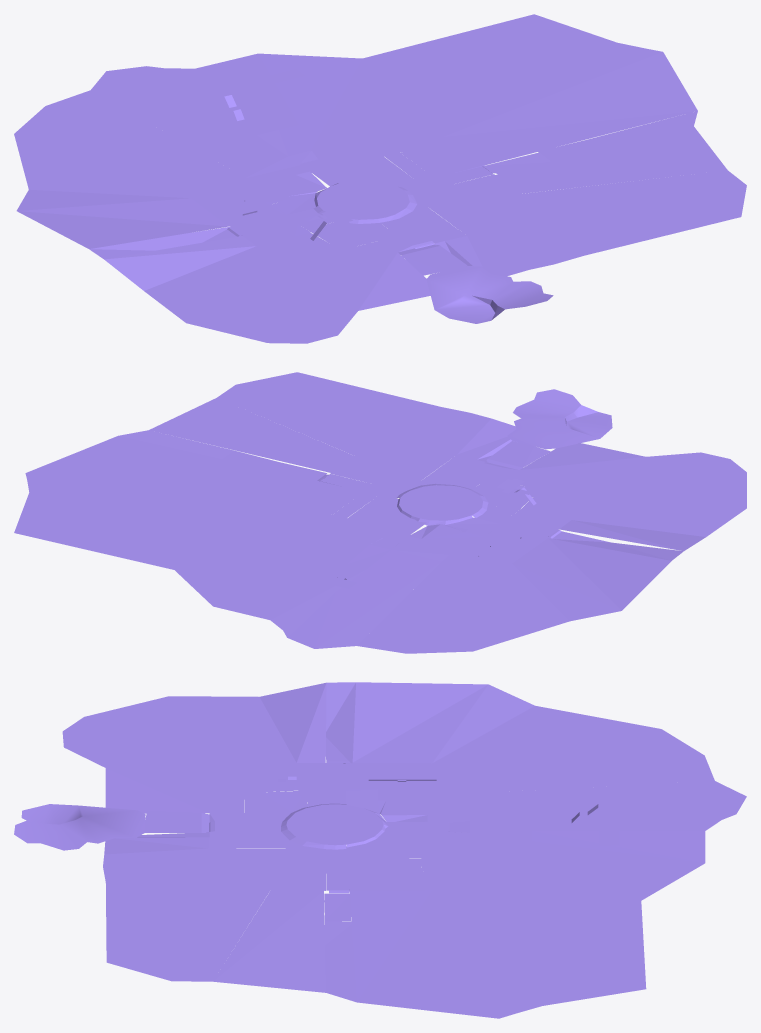
File: scene_luoliante_xinzouquyu_002.FBX
The picture shows the model from 3 angles, top to bottom: view 1: azimuth 30°, elevation 25°; view 2: azimuth 150°, elevation 25°; view 3: azimuth 270°, elevation 25°; orthographic projection. The views are drawn at different scales.
Parts seen in each view (by area): view 1: scene_luoliante_xinzouquyu_002; view 2: scene_luoliante_xinzouquyu_002; view 3: scene_luoliante_xinzouquyu_002.
Boxes of the visible parts, x1=… form: scene_luoliante_xinzouquyu_002: x1=14, y1=14, x2=746, y2=343; scene_luoliante_xinzouquyu_002: x1=14, y1=372, x2=746, y2=653; scene_luoliante_xinzouquyu_002: x1=14, y1=682, x2=746, y2=1018.
Bounding box in the file's own units: 10906 × 427 × 10217.
